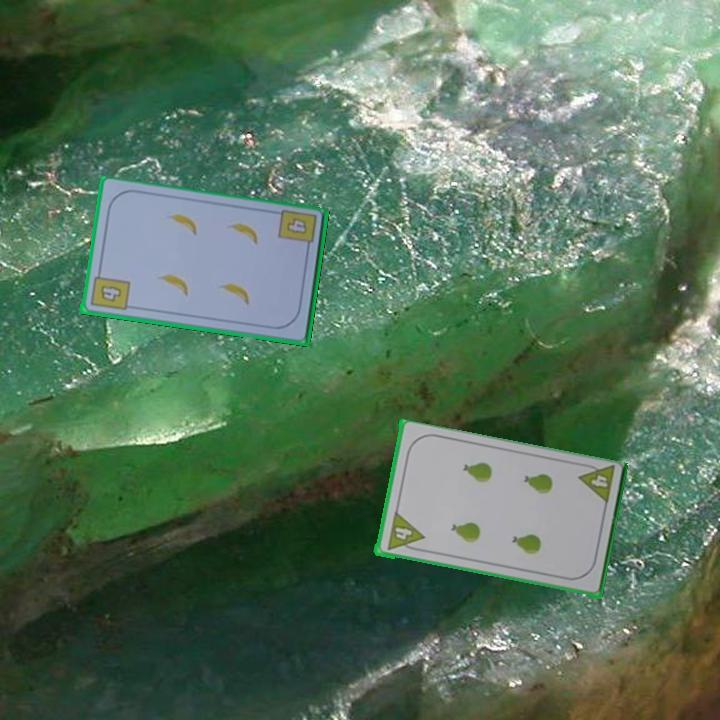4b: (86, 267, 132, 313), (282, 214, 310, 237)
4p: (574, 460, 618, 508), (383, 509, 426, 555)
